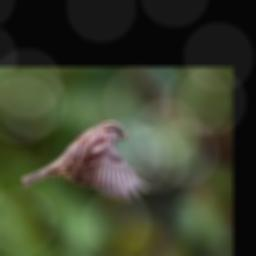Sparrow: (23, 121, 151, 202)
